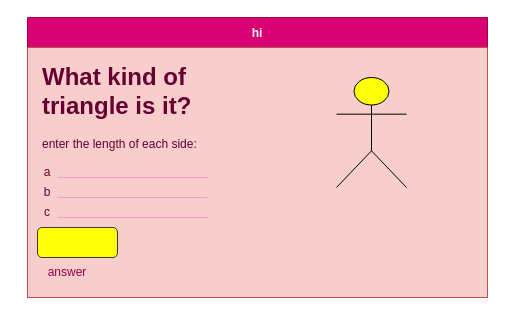
The diagram is 505 pixels wide and 315 high, and some of its shapes have lost their labels. The centre of each missing label's shape, as x and y in pixels:
"Actor" goes at point 371,132.
"button" goes at point 77,242.
